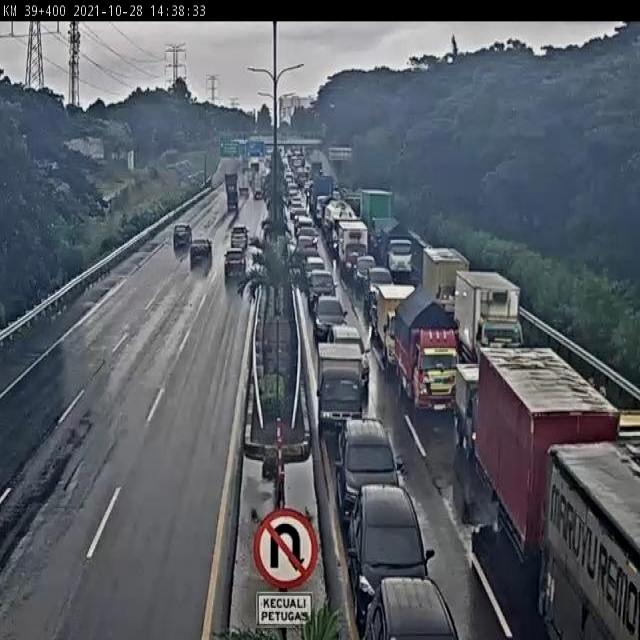Car: (345, 484, 434, 632), (331, 417, 406, 528), (313, 293, 349, 341), (364, 264, 394, 312), (306, 269, 336, 305), (304, 256, 328, 289), (224, 246, 246, 280), (297, 226, 319, 251), (230, 226, 248, 252)
Truck: (472, 346, 640, 640), (394, 281, 464, 418), (453, 269, 520, 364), (314, 340, 364, 431), (368, 283, 415, 374), (421, 246, 468, 317), (360, 188, 399, 258), (382, 222, 418, 280), (334, 218, 368, 277), (323, 198, 358, 254), (311, 173, 335, 212), (342, 193, 362, 225), (238, 169, 250, 197), (226, 190, 239, 213)
